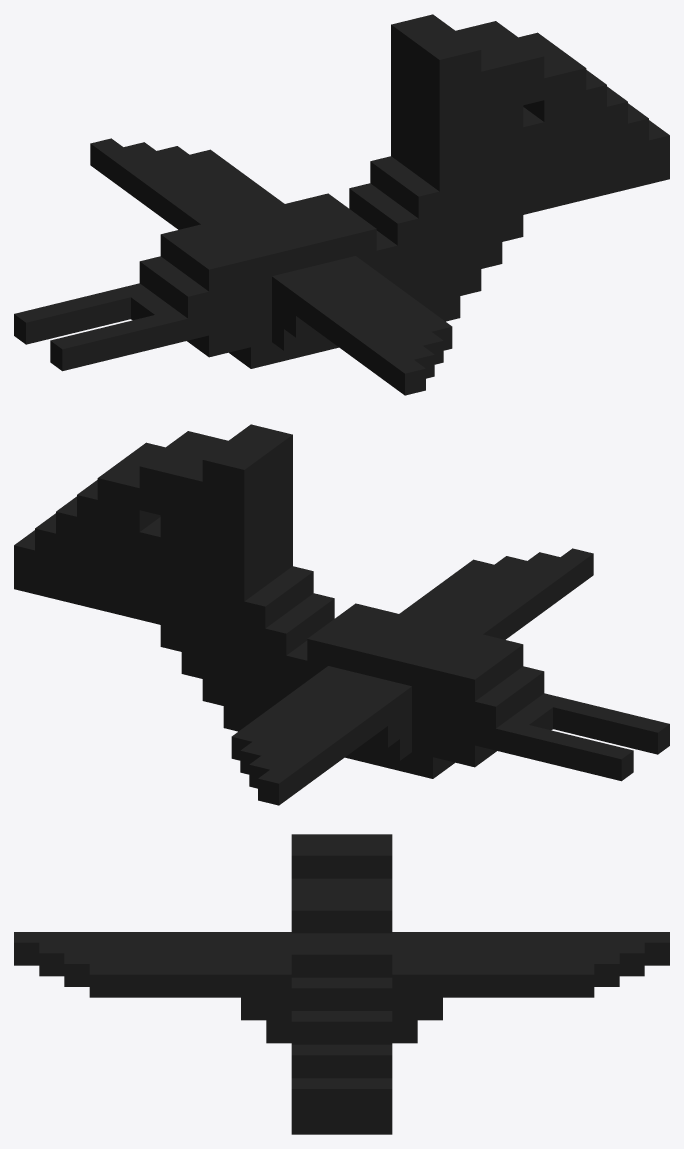
The model's file is pterodactyl-1.obj.
3 views of the same model, one above another, from view 1: azimuth 30°, elevation 25°; view 2: azimuth 150°, elevation 25°; view 3: azimuth 270°, elevation 25° (orthographic). The views are drawn at different scales.
Visible parts, largest first — view 1: Untitled; view 2: Untitled; view 3: Untitled.
Boxes of the visible parts, x1,y1,x2,y2 form: Untitled: (14, 14, 669, 395); Untitled: (14, 424, 669, 805); Untitled: (14, 834, 669, 1134).
Bounding box in the file's own units: 2.9 × 1.2 × 2.6.
1 material, 1 textured.
